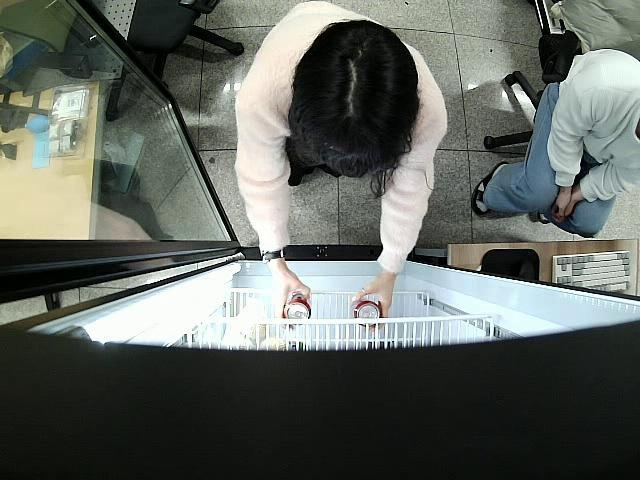11_cocaColaZero: (283, 296, 310, 329), (352, 301, 381, 330)
